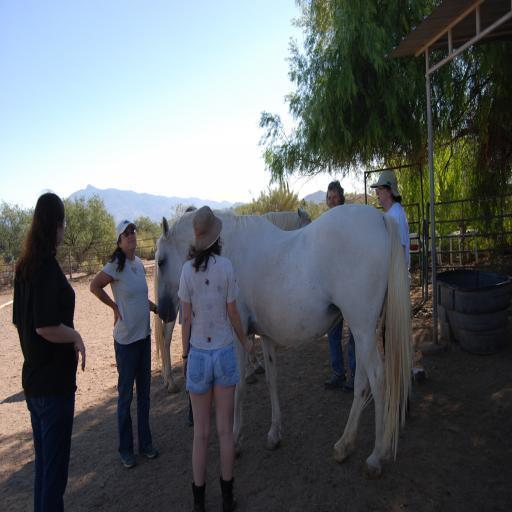horse: (158, 202, 412, 480), (148, 198, 313, 391)
